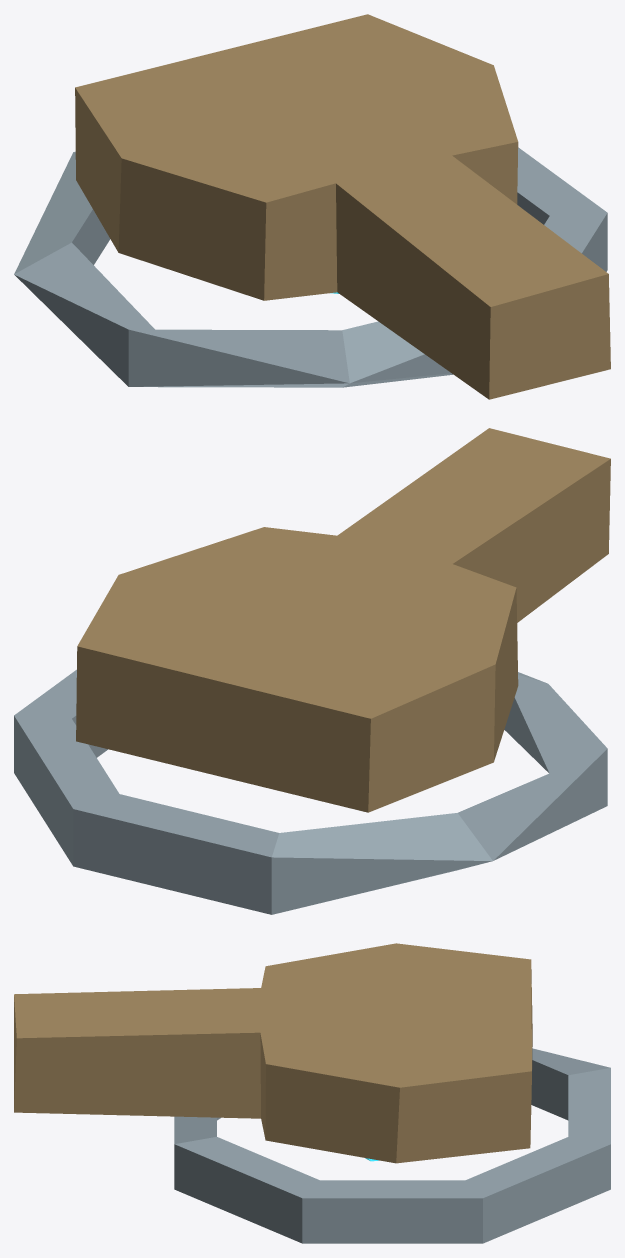
File: accessory-low.glb
3 views of the same model, one above another, from view 1: azimuth 30°, elevation 25°; view 2: azimuth 150°, elevation 25°; view 3: azimuth 270°, elevation 25° (orthographic). The views are drawn at different scales.
Visible parts, largest first — view 1: CW_Relic_accessory; view 2: CW_Relic_accessory; view 3: CW_Relic_accessory.
Boxes of the visible parts, x1,y1,x2,y2 form: CW_Relic_accessory: (14, 14, 610, 399); CW_Relic_accessory: (14, 428, 610, 914); CW_Relic_accessory: (14, 943, 610, 1243).
Size of the model in its own units: 0.218 by 0.0777 by 0.2982.
